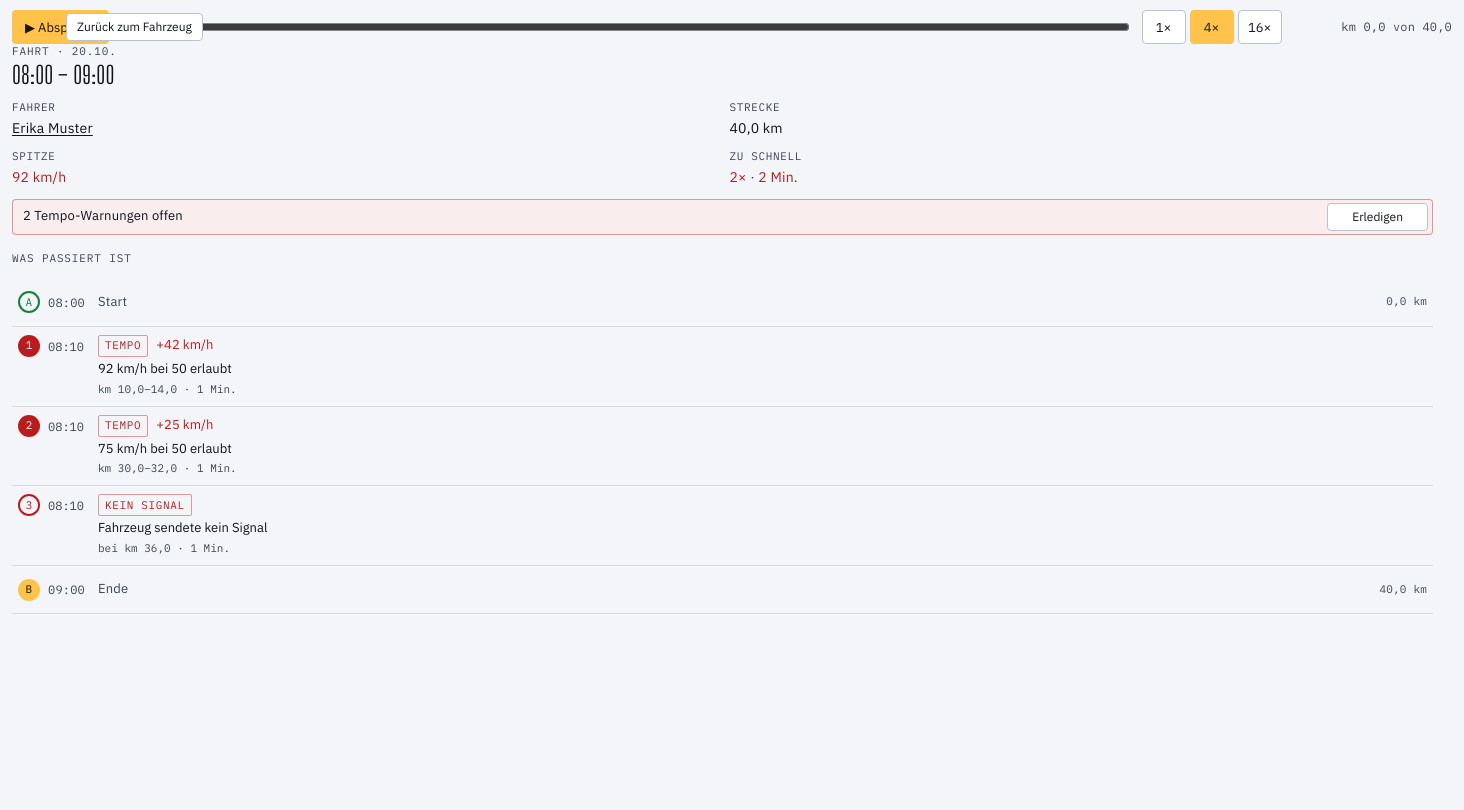
trip focus › shows an event on the map and moves the replay there
Click the 8th button at [66, 426], box [12,406,1433,486]
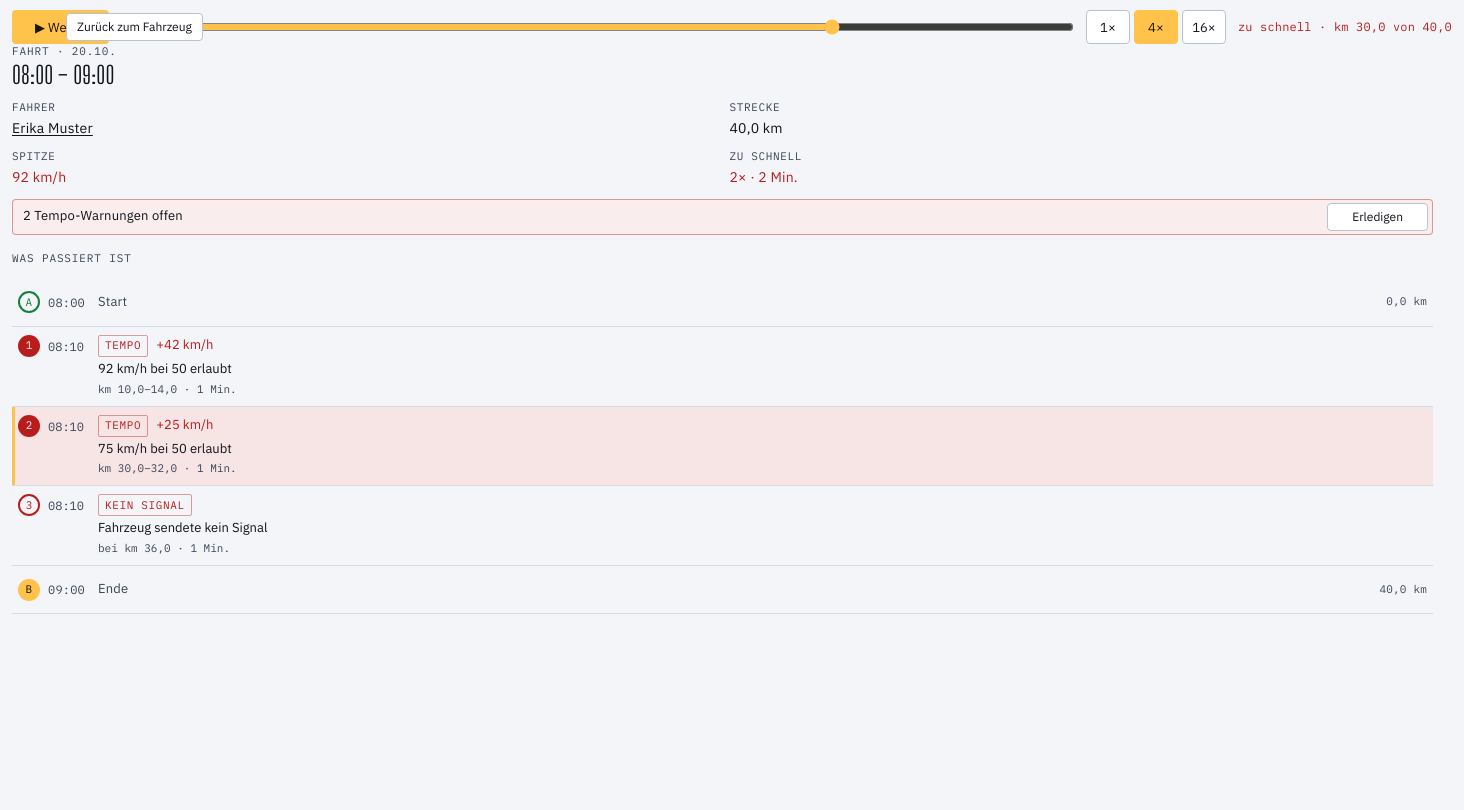
Expected: the slider named "Stelle in der Fahrt" holds "750", [121,19,1074,35]
Expected: the text "zu schnell · km 30,0 von 40,0" is shown, [1238,18,1452,36]
